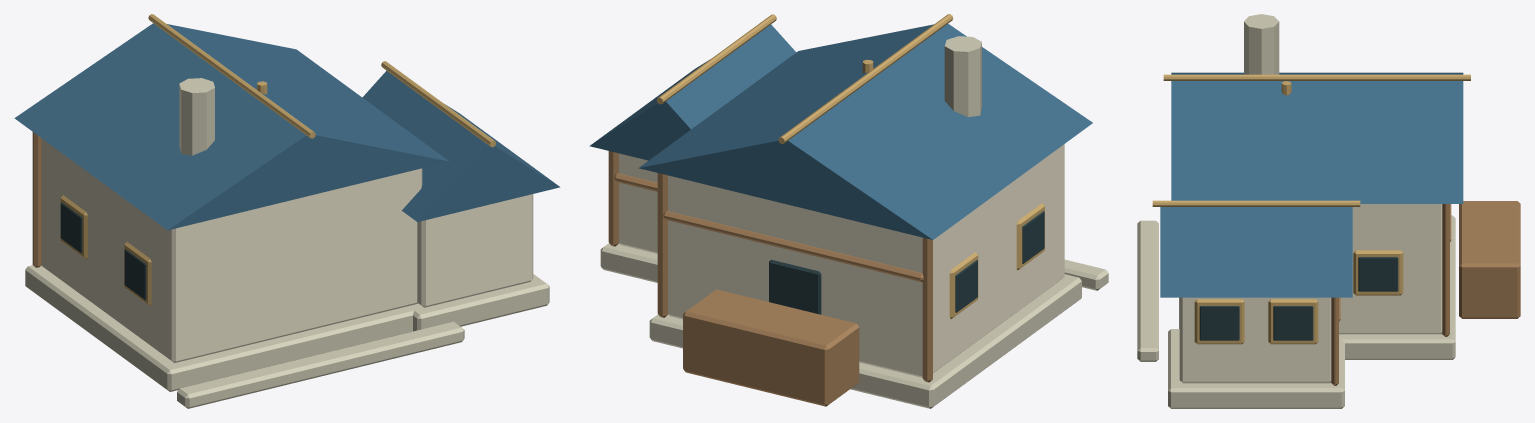
Rendered from level_08.glb.
The picture shows the model from 3 angles, left to right: view 1: azimuth 30°, elevation 25°; view 2: azimuth 150°, elevation 25°; view 3: azimuth 270°, elevation 25°; orthographic projection. The views are drawn at different scales.
Parts seen in each view (by area): view 1: workshop — level 08; view 2: workshop — level 08; view 3: workshop — level 08.
Boxes of the visible parts, bbox=[...] form: workshop — level 08: bbox=[14, 14, 560, 408]; workshop — level 08: bbox=[589, 14, 1108, 408]; workshop — level 08: bbox=[1137, 14, 1520, 408].
Bounding box in the file's own units: 5.55 × 3.55 × 4.98.
